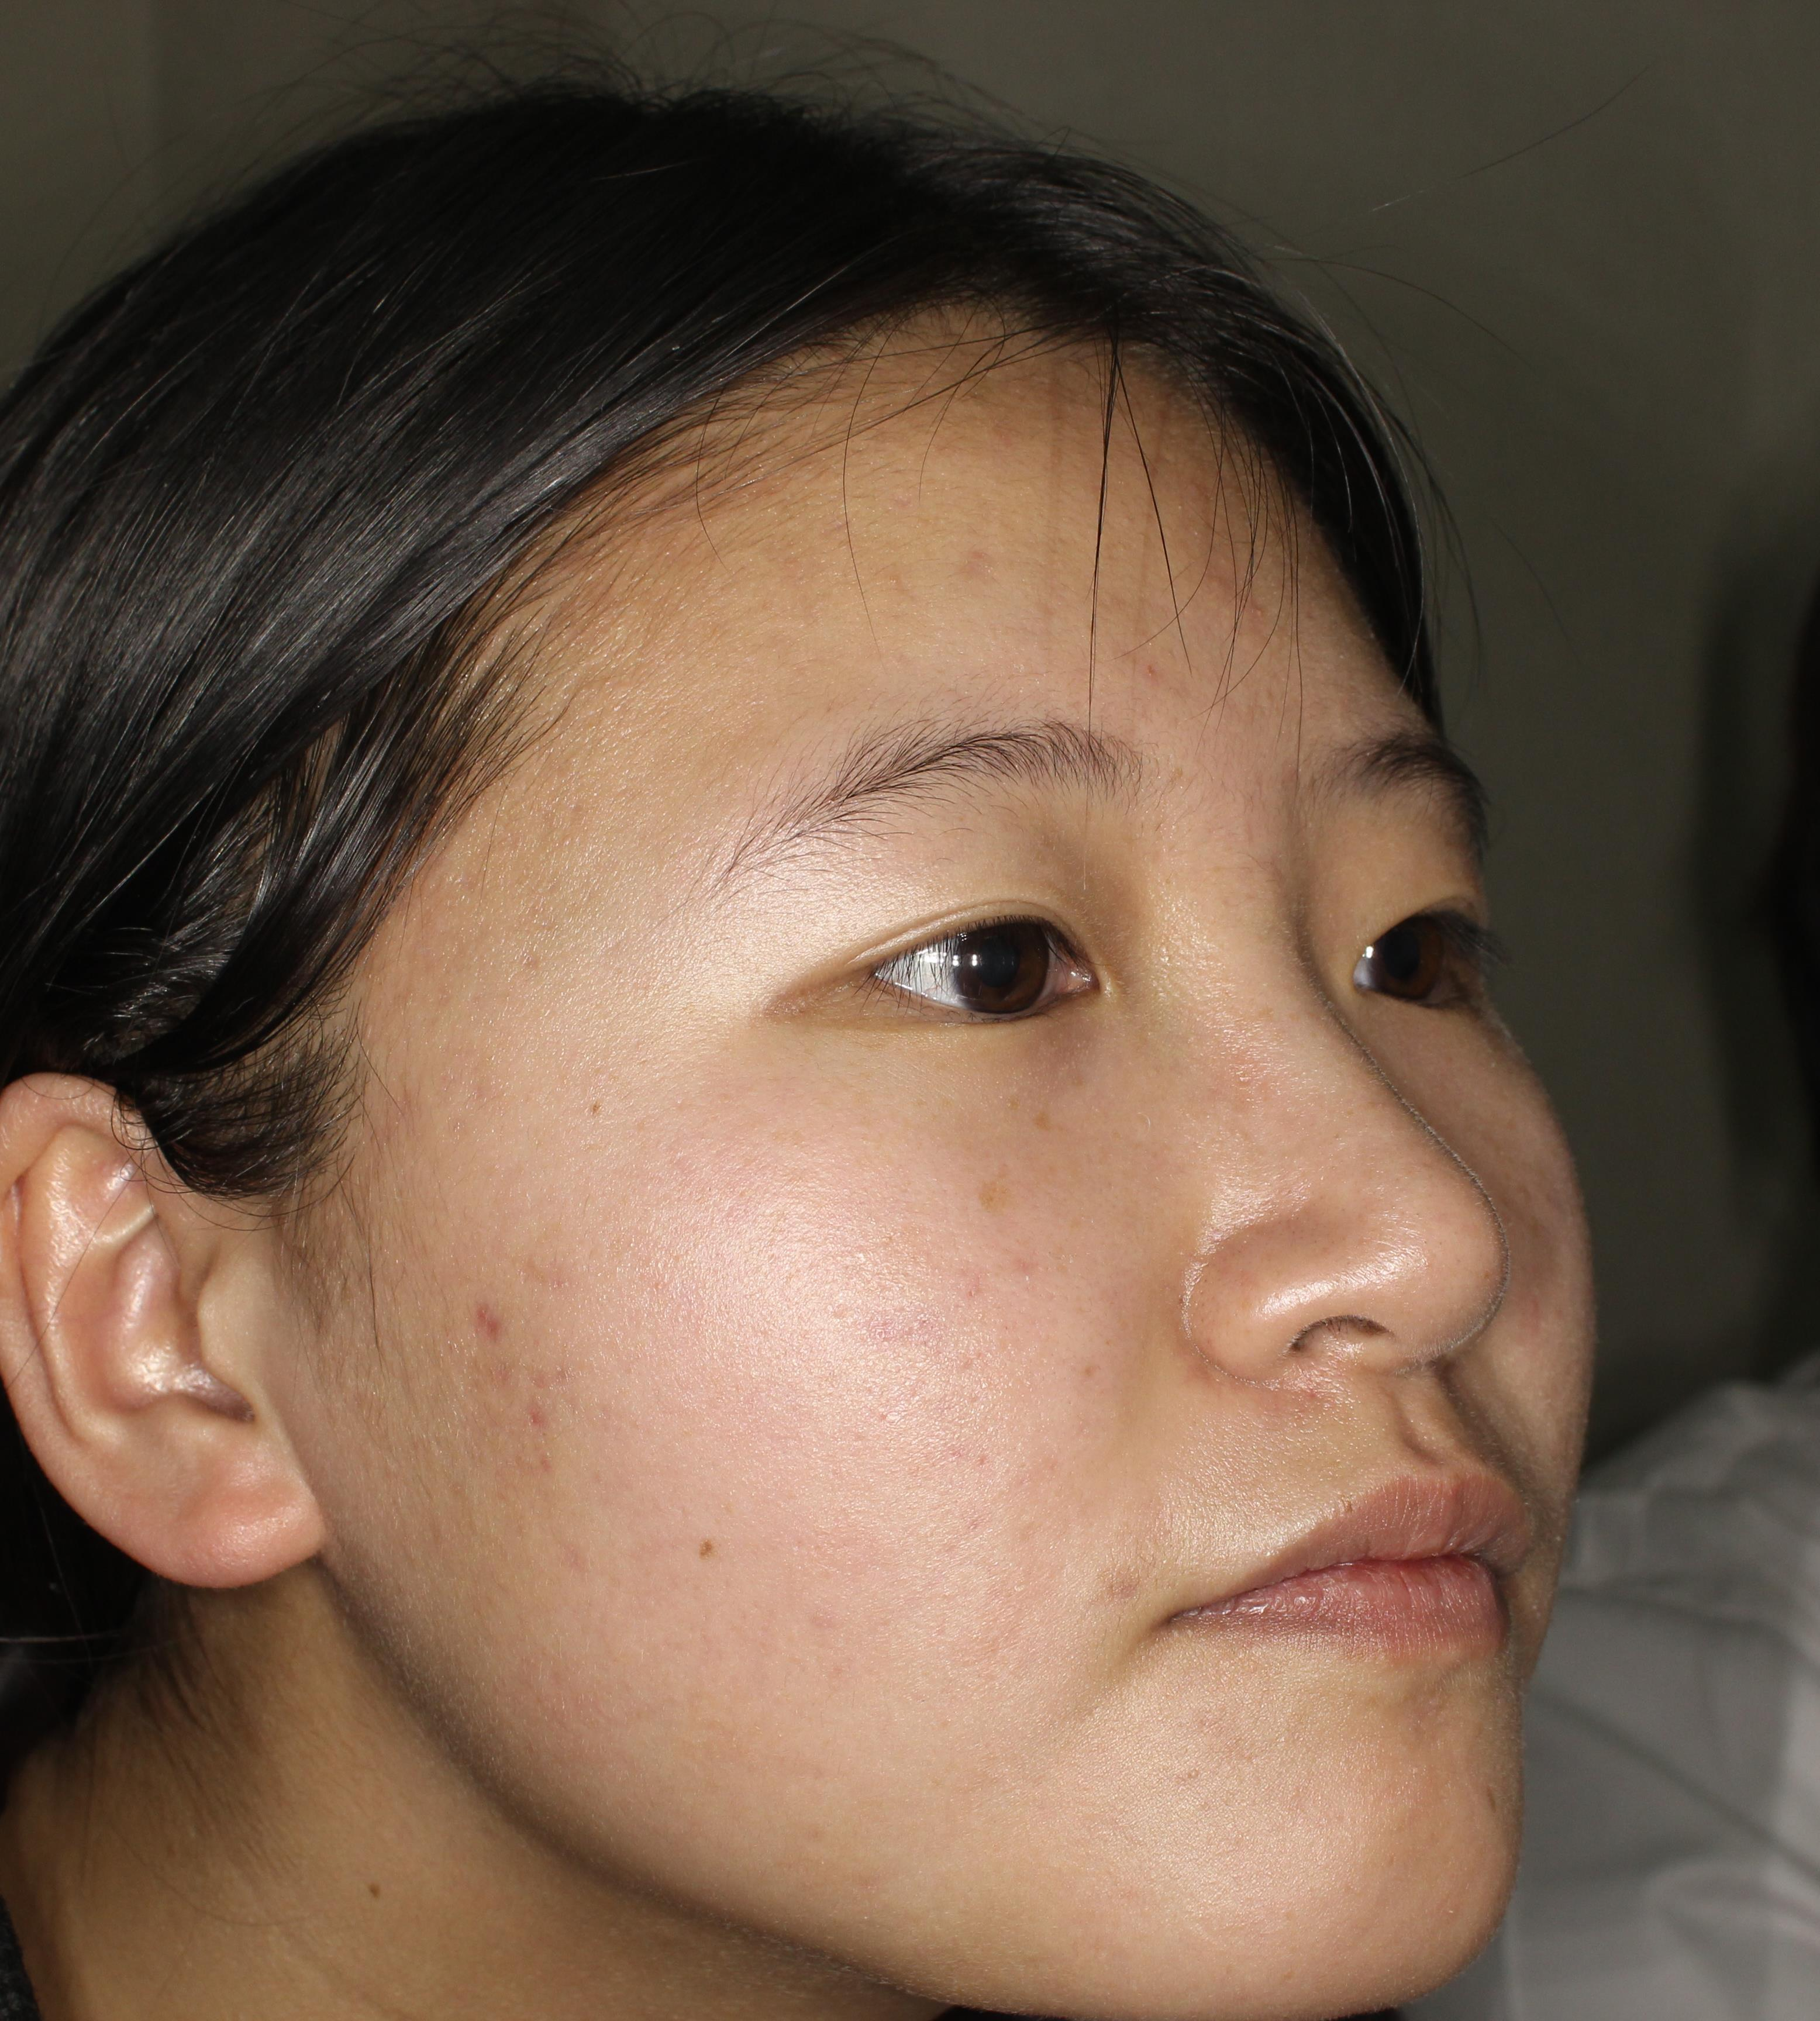fore: (450, 1271, 566, 1384)
